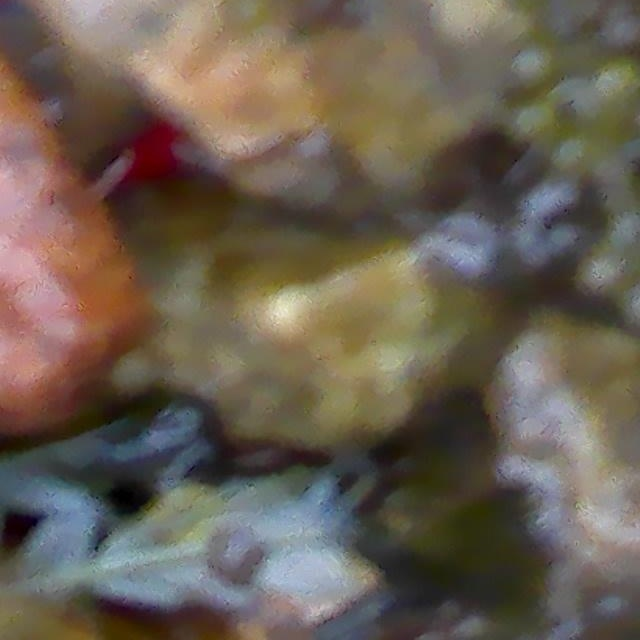SeaGrape: (599, 7, 640, 61), (291, 0, 350, 37)
